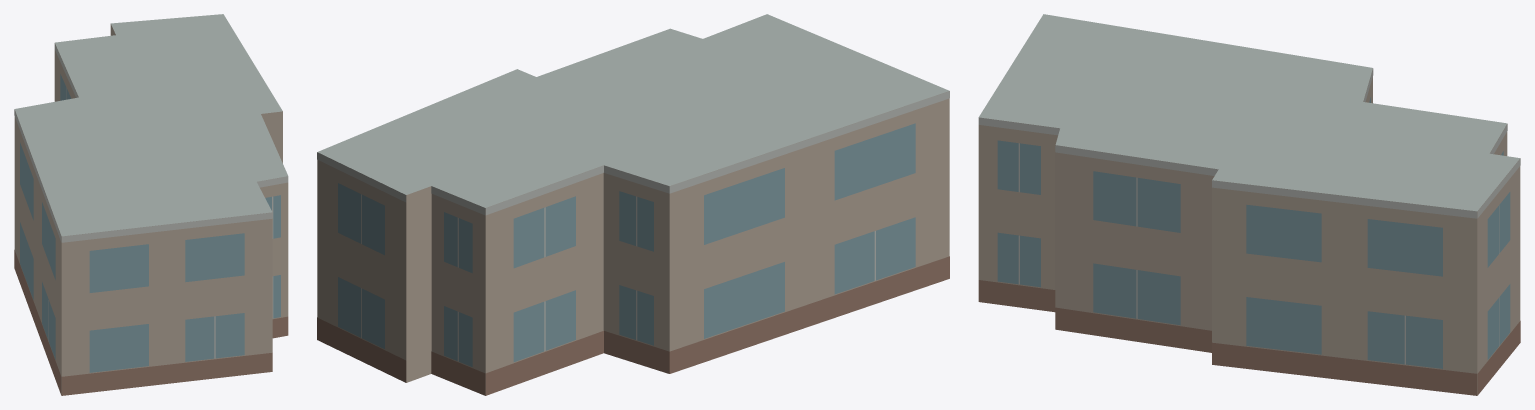
The model's file is survey-upis-32874286.glb.
3 views of the same model, side by side, from view 1: azimuth 30°, elevation 25°; view 2: azimuth 150°, elevation 25°; view 3: azimuth 270°, elevation 25° (orthographic). The views are drawn at different scales.
Visible parts, largest first — view 1: survey-upis-32874286.tmp; view 2: survey-upis-32874286.tmp; view 3: survey-upis-32874286.tmp.
Boxes of the visible parts, x1,y1,x2,y2 form: survey-upis-32874286.tmp: (14, 14, 288, 395); survey-upis-32874286.tmp: (317, 14, 949, 395); survey-upis-32874286.tmp: (978, 14, 1520, 395).
Bounding box in the file's own units: 14 × 6.1 × 16.25.
